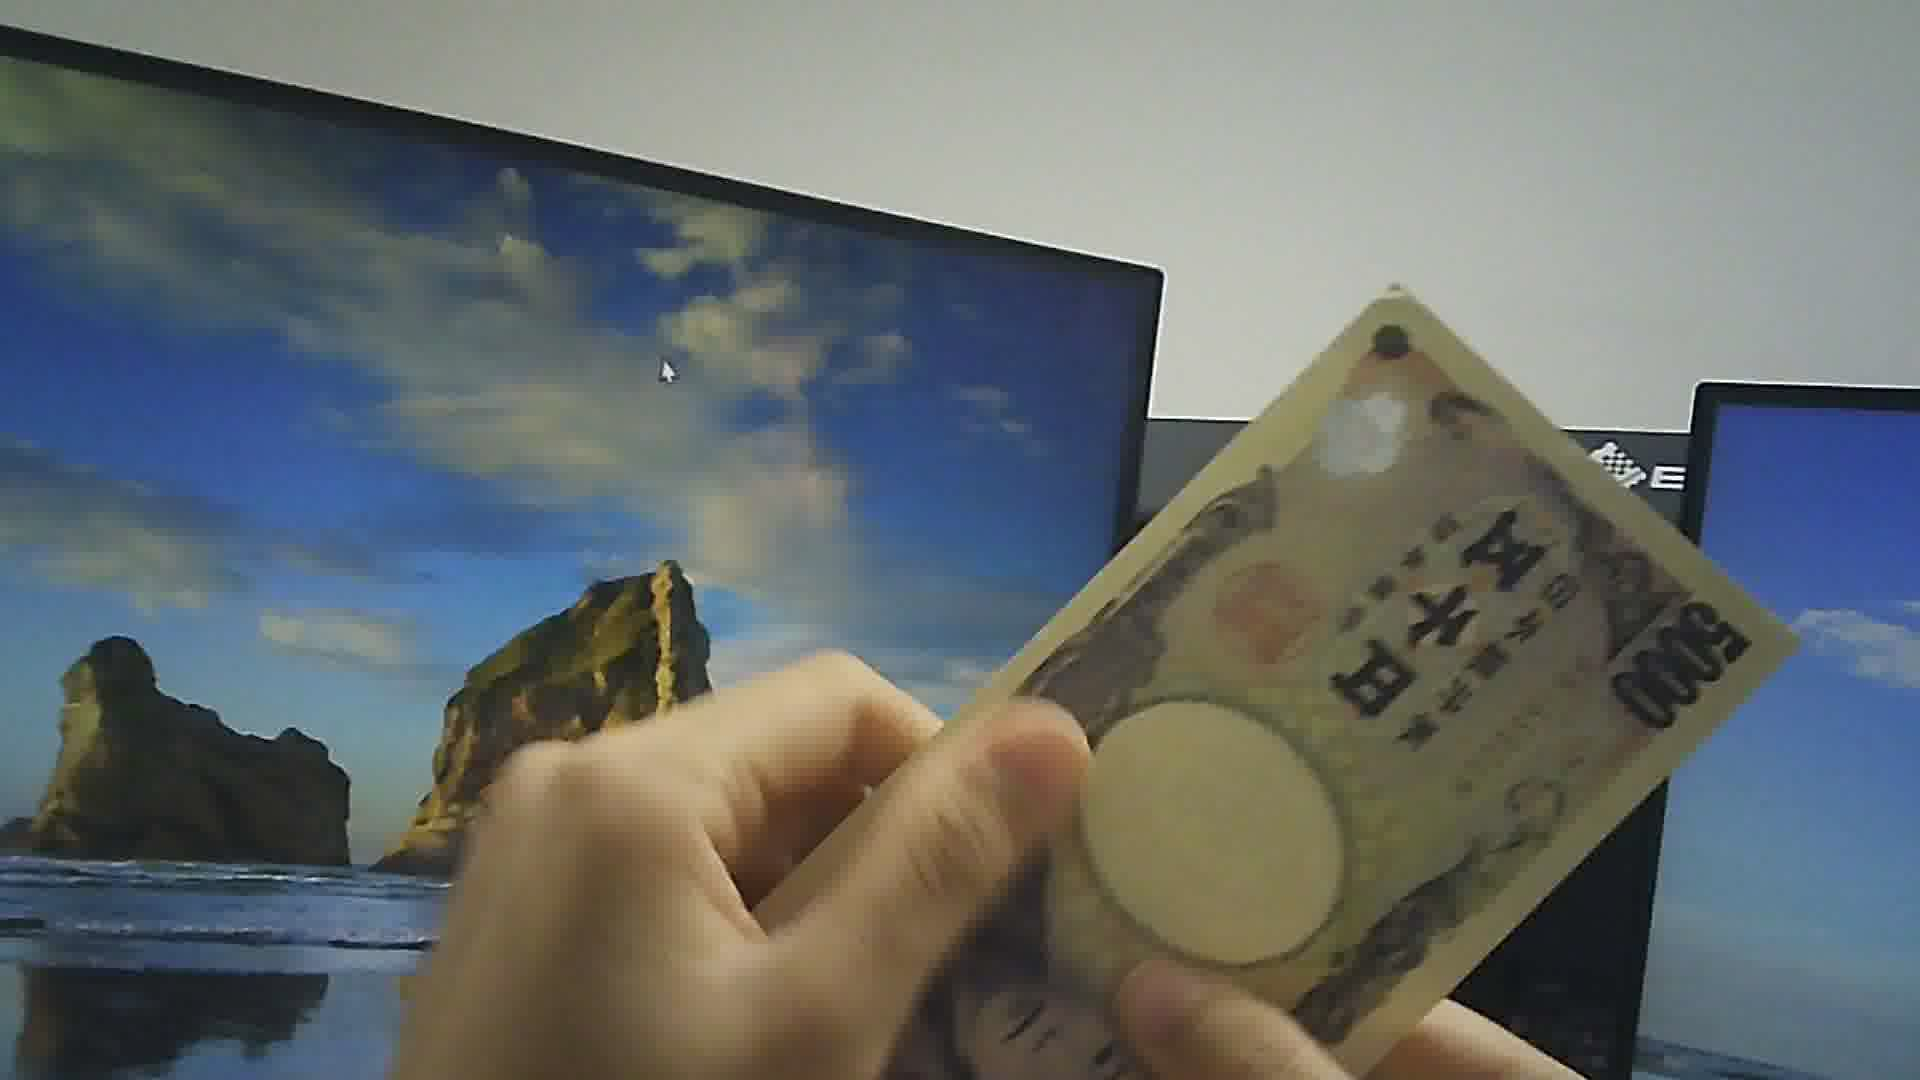5,000 Yen: (781, 261, 1774, 1079)
